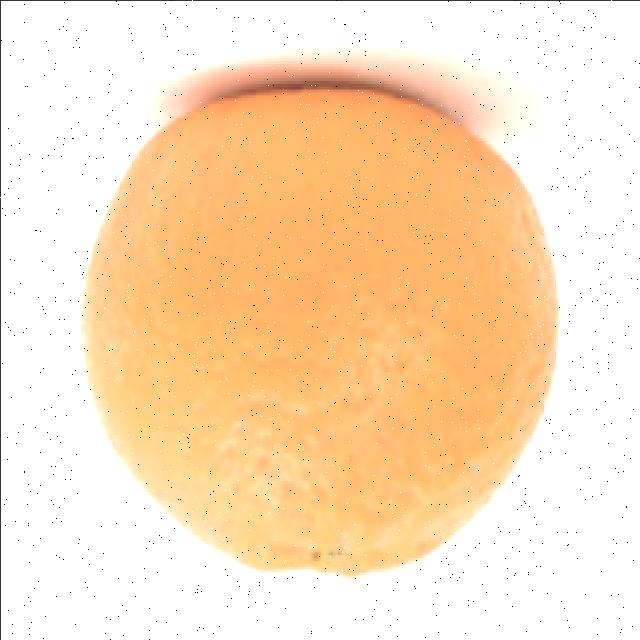orange: (72, 81, 562, 578)
